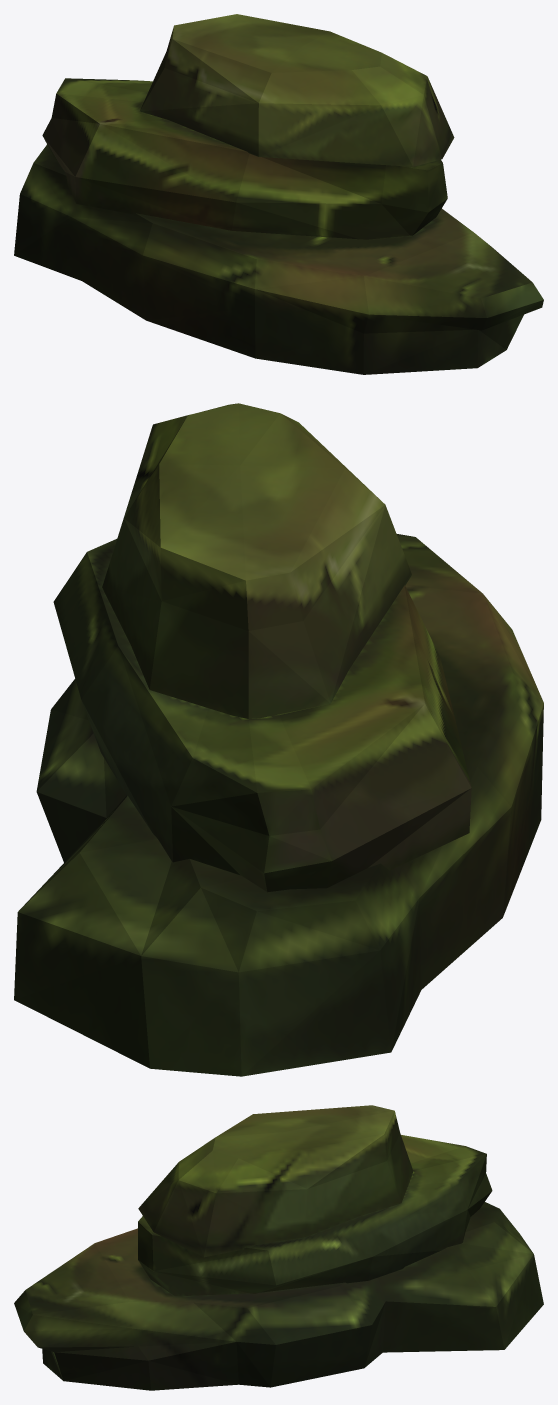
Rendered from Swamp_shitou12.FBX.
3 views of the same model, one above another, from view 1: azimuth 30°, elevation 25°; view 2: azimuth 150°, elevation 25°; view 3: azimuth 270°, elevation 25° (orthographic). The views are drawn at different scales.
Parts seen in each view (by area): view 1: shitou12; view 2: shitou12; view 3: shitou12.
Boxes of the visible parts, x1=… form: shitou12: x1=14, y1=14, x2=543, y2=374; shitou12: x1=14, y1=403, x2=543, y2=1076; shitou12: x1=14, y1=1105, x2=543, y2=1390.
Bounding box in the file's own units: 115 × 84.08 × 190.
